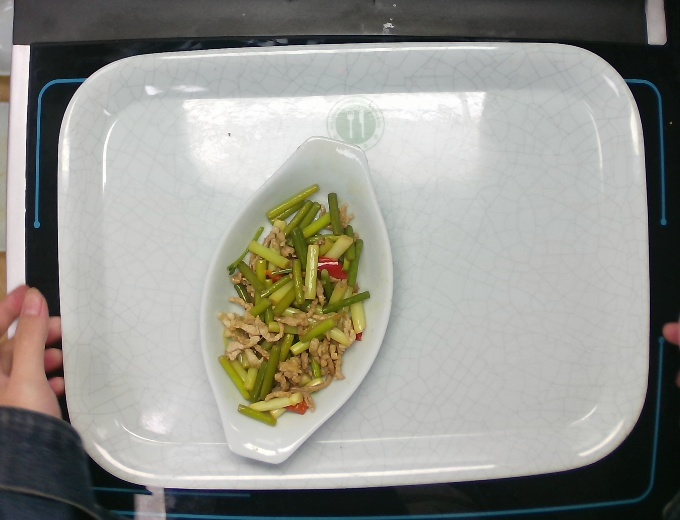JYsf-Yu_Pan: (195, 133, 397, 466)
